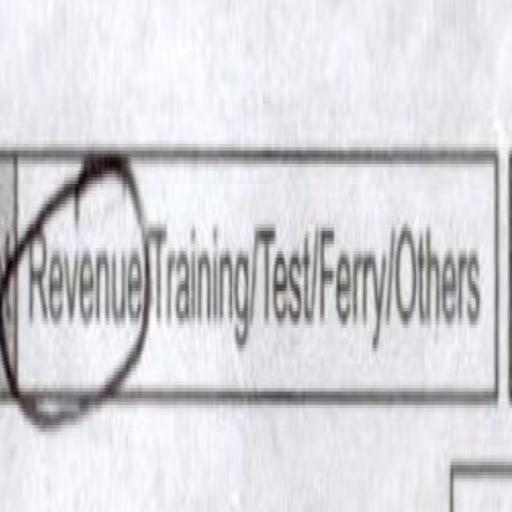check: (18, 58, 145, 432)
